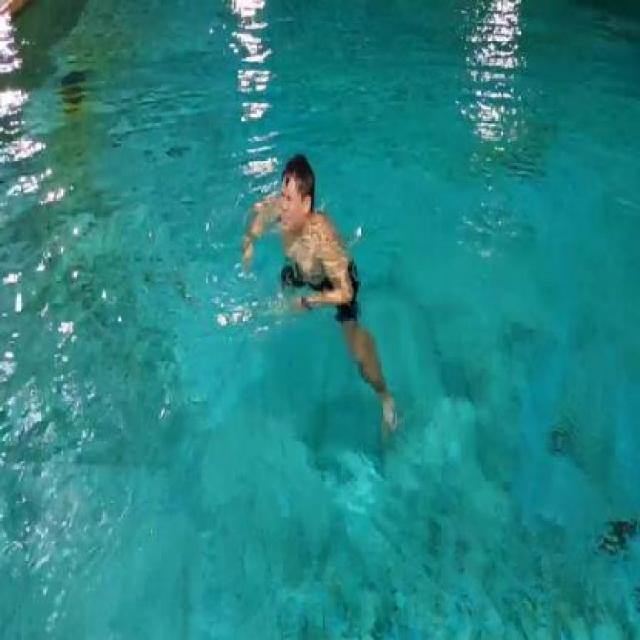Out of Water: (236, 165, 390, 369)
